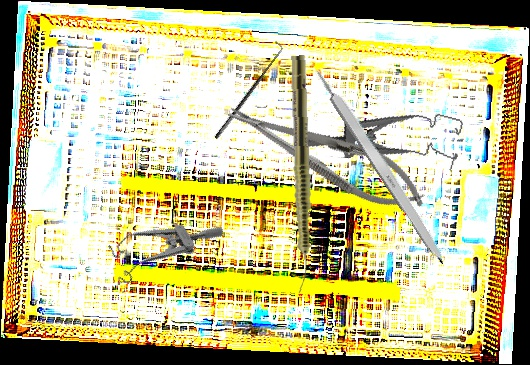Handpiece: (287, 55, 315, 294)
Hook Surgical: (207, 39, 288, 141)
Needle Holder: (219, 87, 435, 224)
Scalpel Handle: (312, 65, 452, 267)
Speculum: (305, 83, 467, 185), (96, 190, 227, 296)
